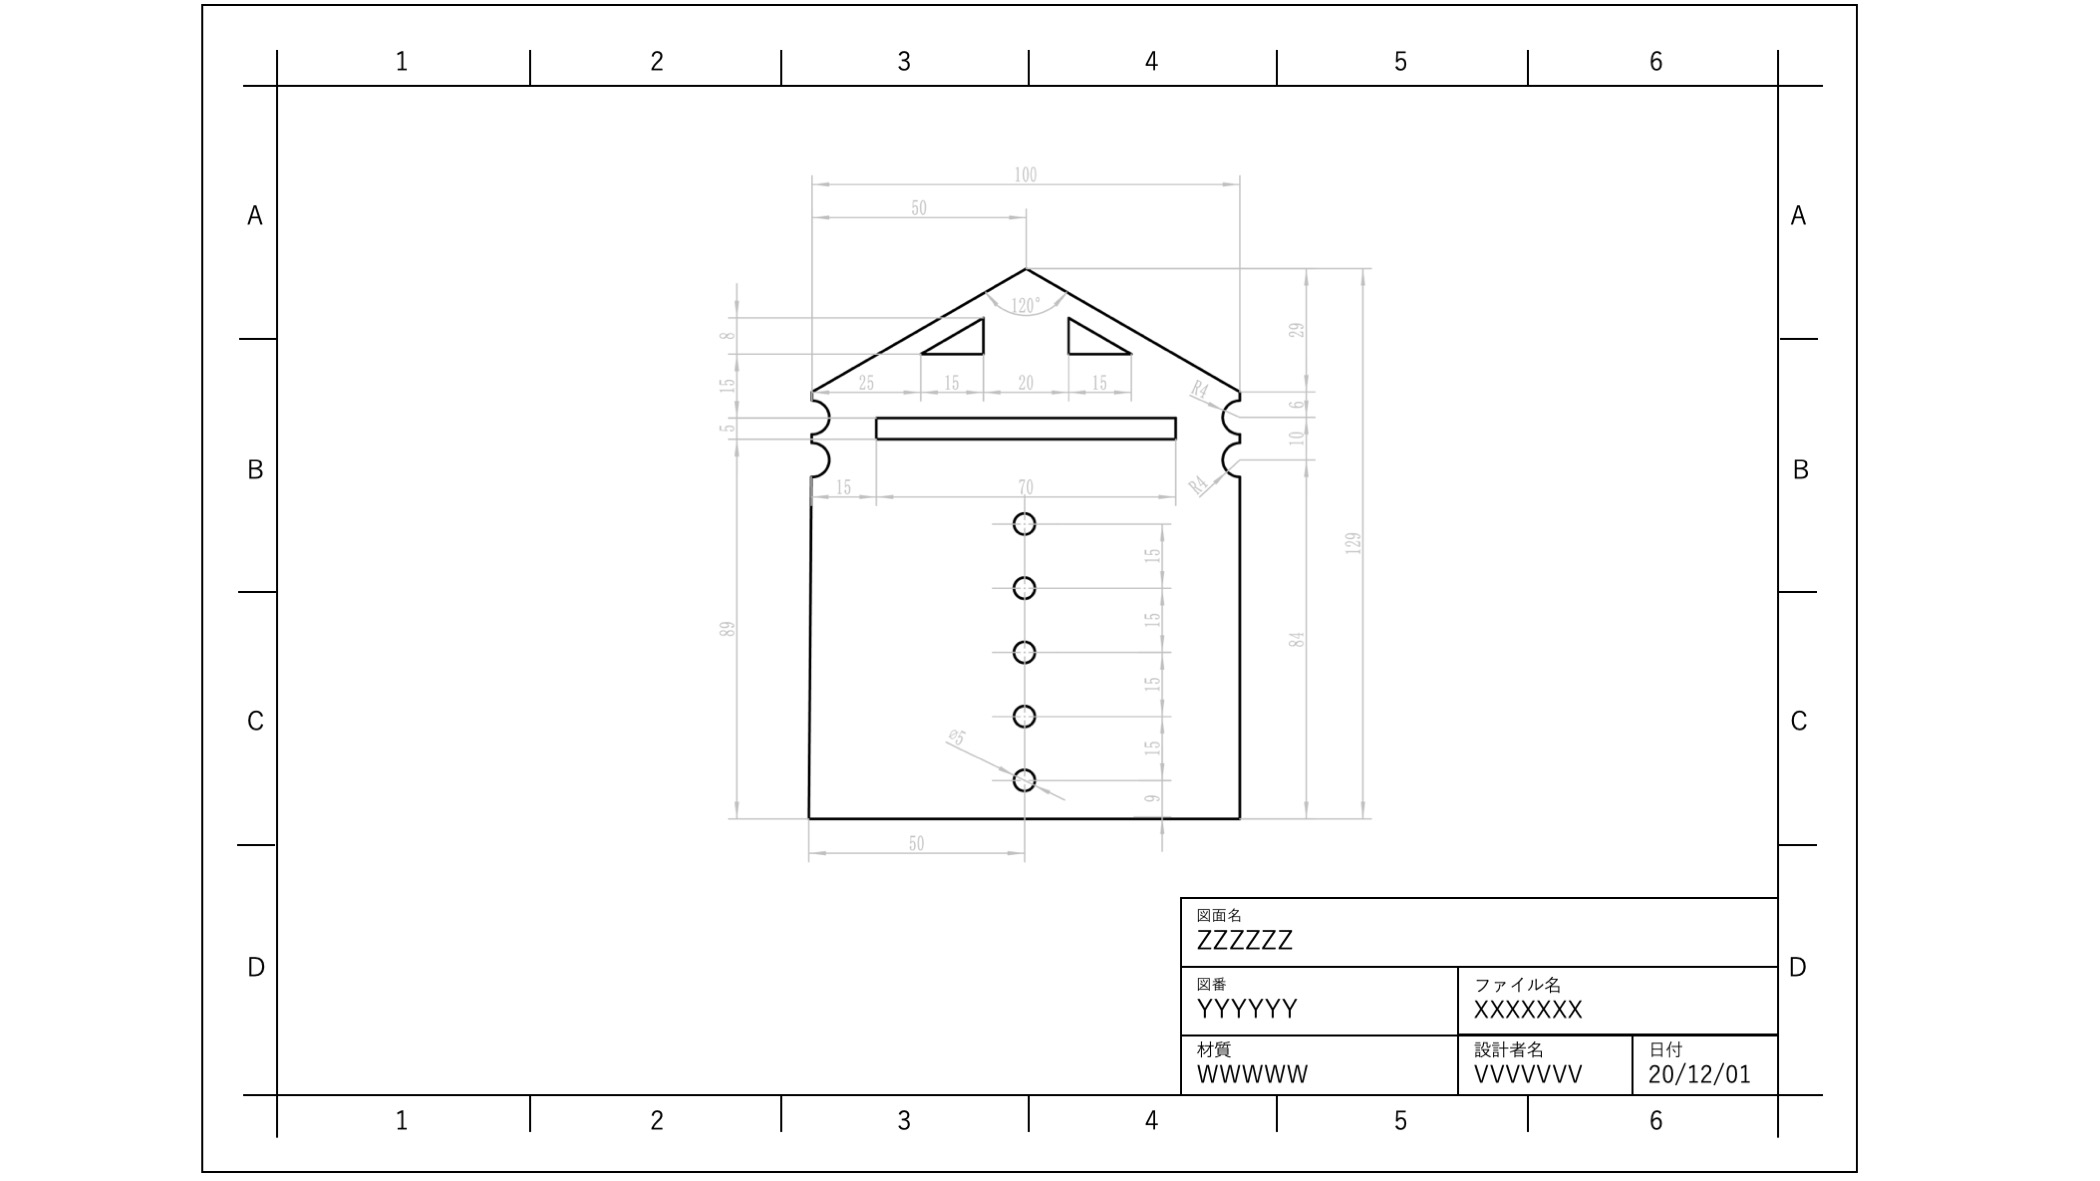circle: (1005, 570, 1044, 606), (1007, 636, 1044, 671), (1010, 758, 1040, 799), (1008, 506, 1041, 538), (1010, 696, 1038, 733)
rectangle: (870, 407, 1190, 448)
triangle: (1062, 311, 1137, 365), (914, 313, 987, 361)
